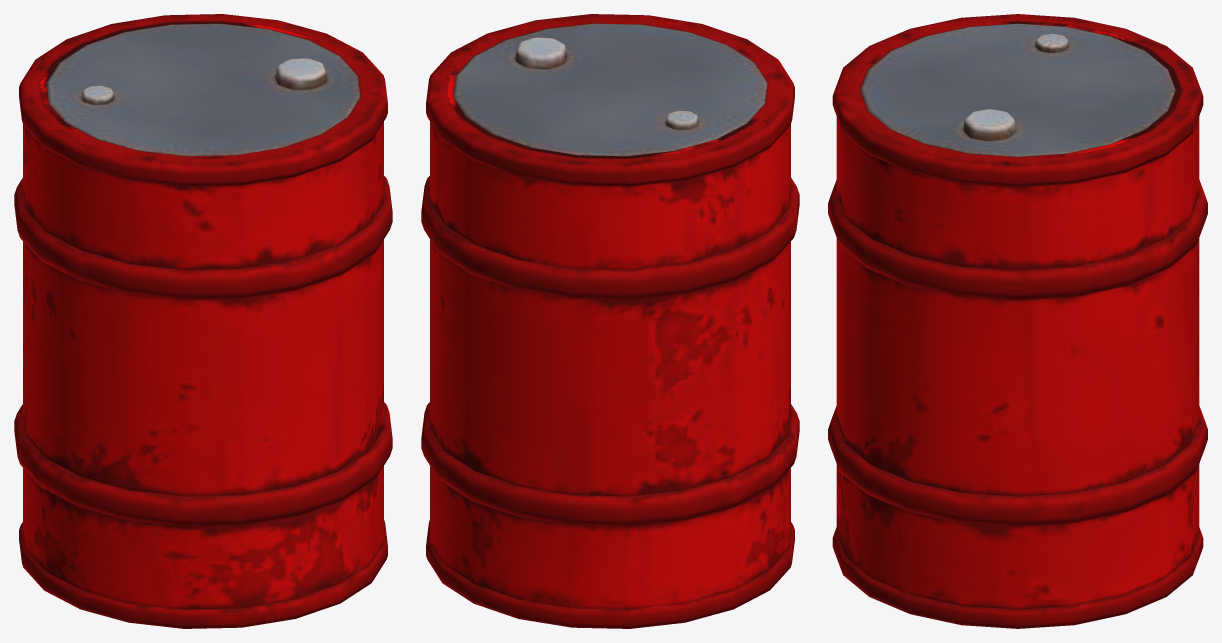
File: barrel.glb
The picture shows the model from 3 angles, left to right: view 1: azimuth 30°, elevation 25°; view 2: azimuth 150°, elevation 25°; view 3: azimuth 270°, elevation 25°; orthographic projection.
Parts seen in each view (by area): view 1: body; view 2: body; view 3: body.
Boxes of the visible parts, bbox=[...] form: body: bbox=[14, 14, 392, 628]; body: bbox=[421, 14, 799, 628]; body: bbox=[828, 14, 1207, 628].
Bounding box in the file's own units: 0.67 × 0.925 × 0.67.
Materials: 1 (1 with a texture image).
